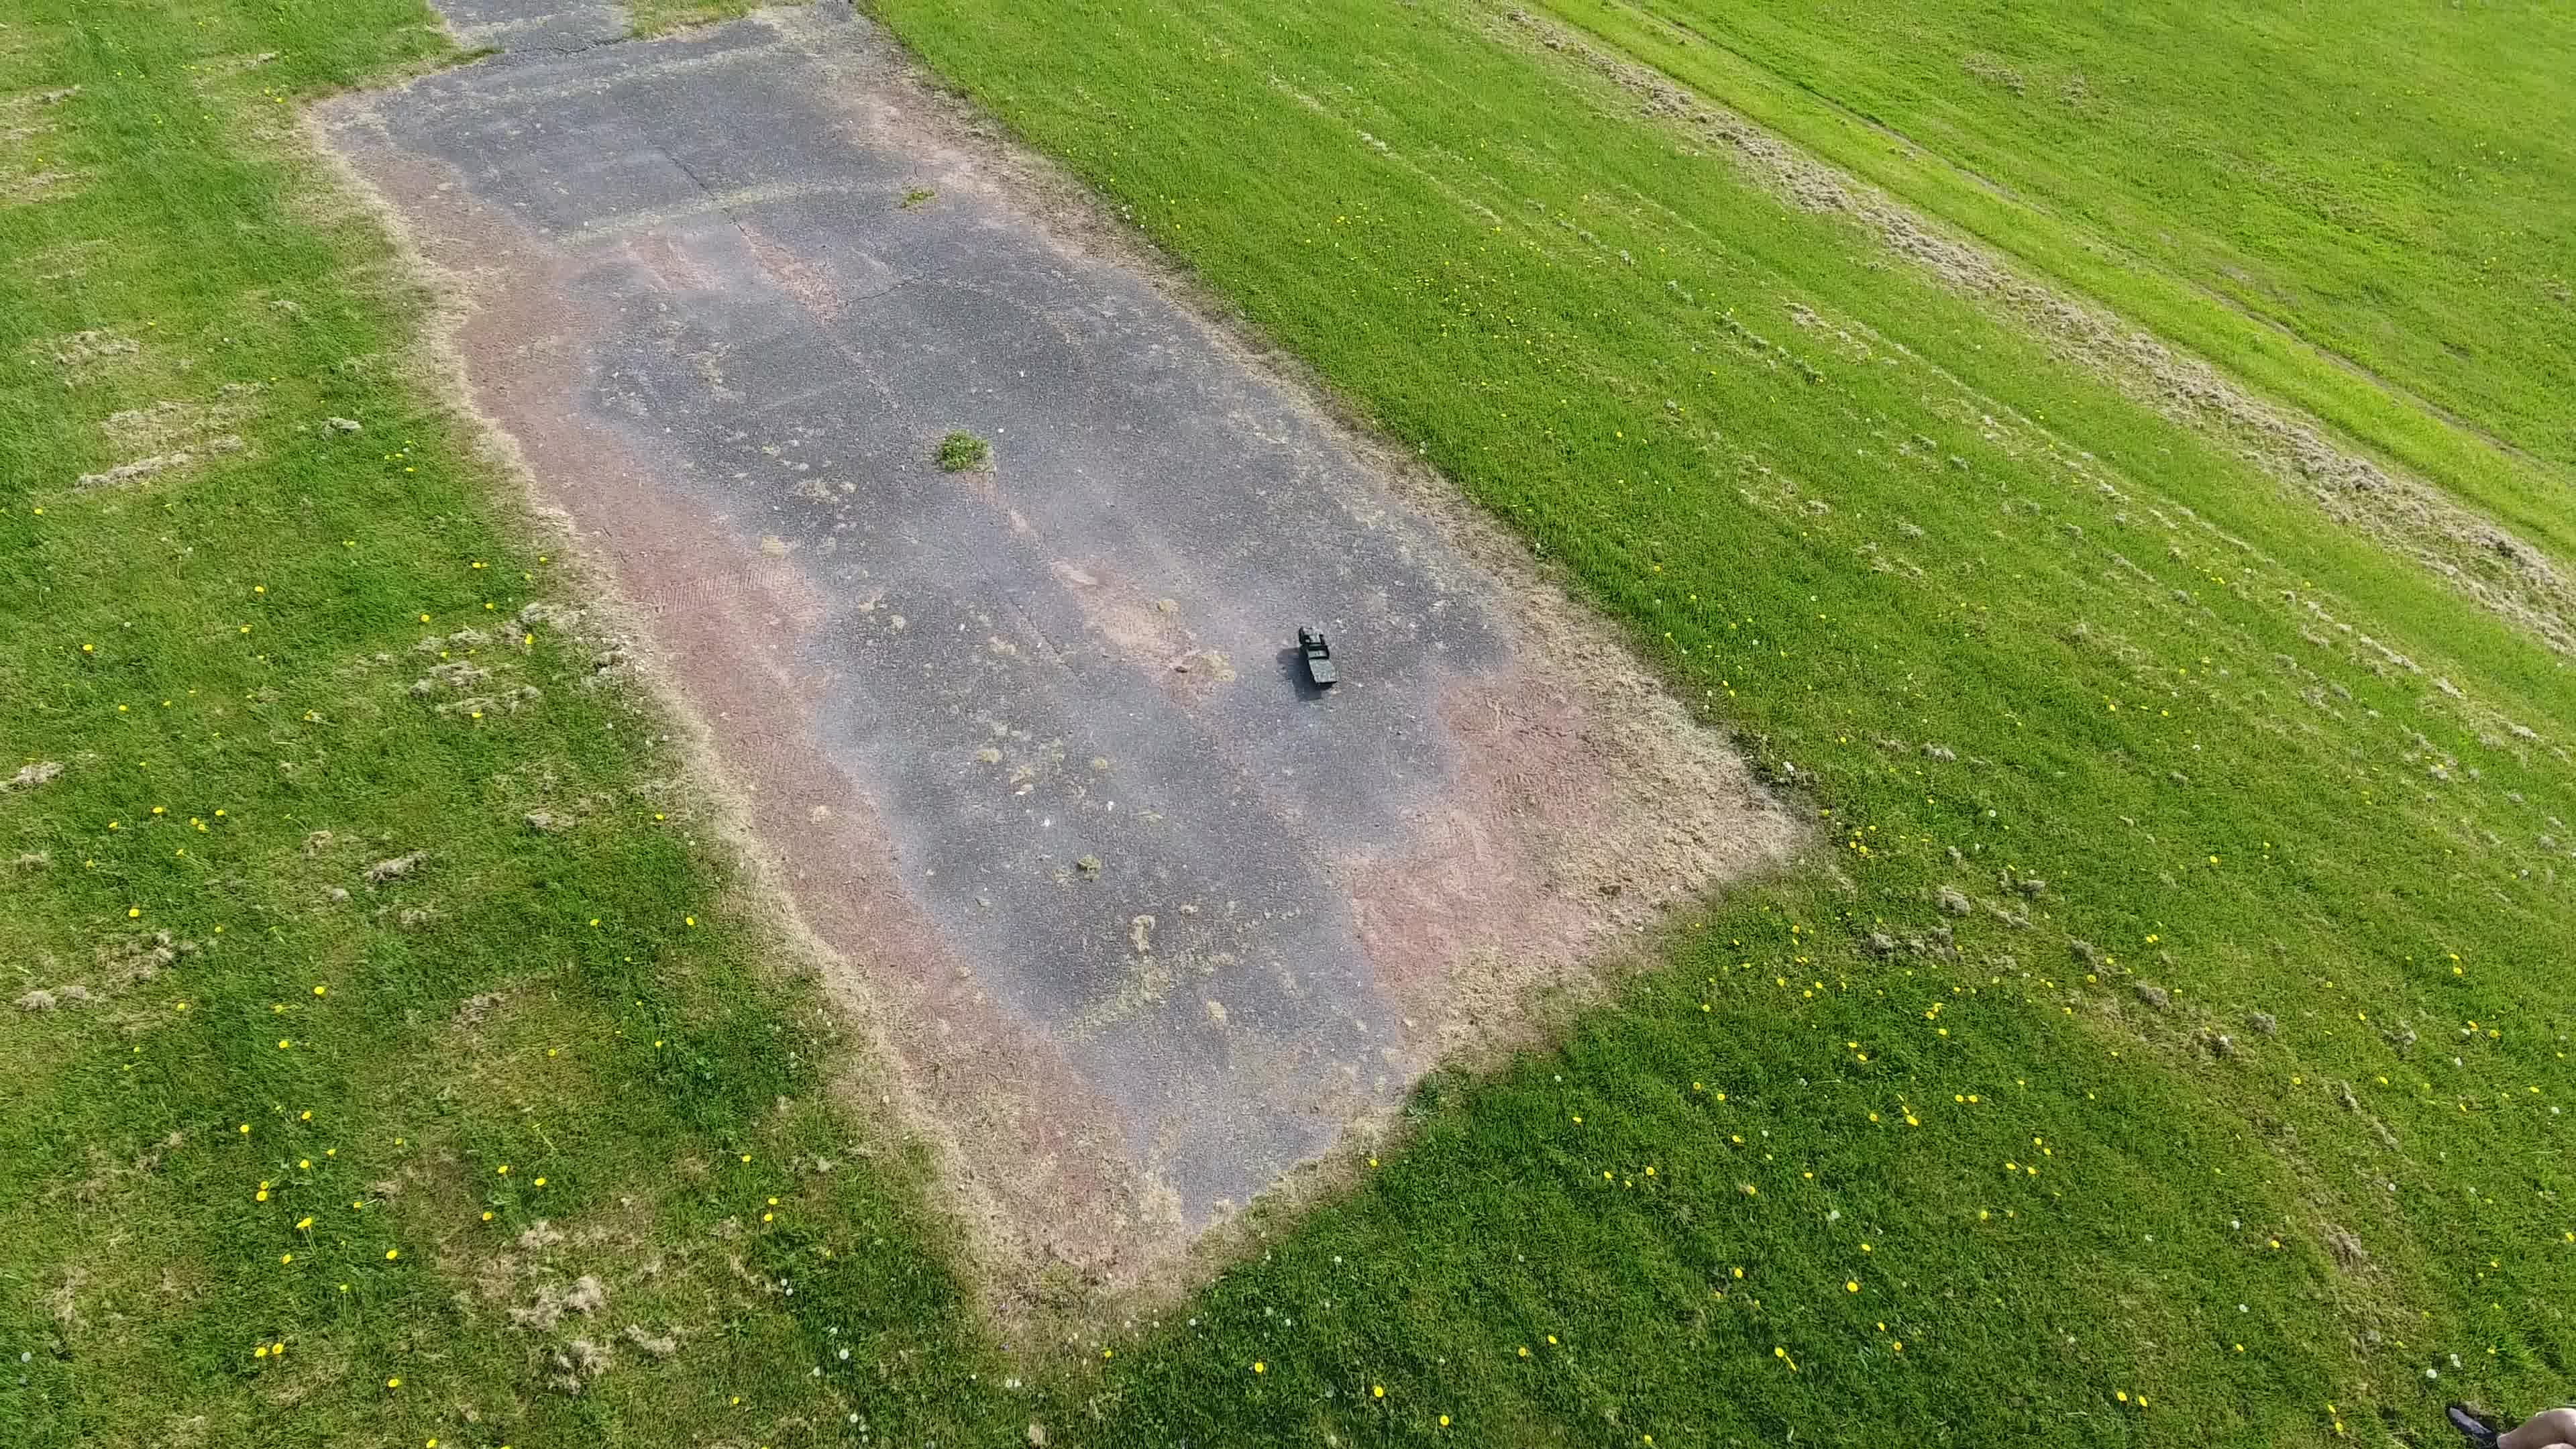transporter9_camo: (1297, 623, 1341, 688)
